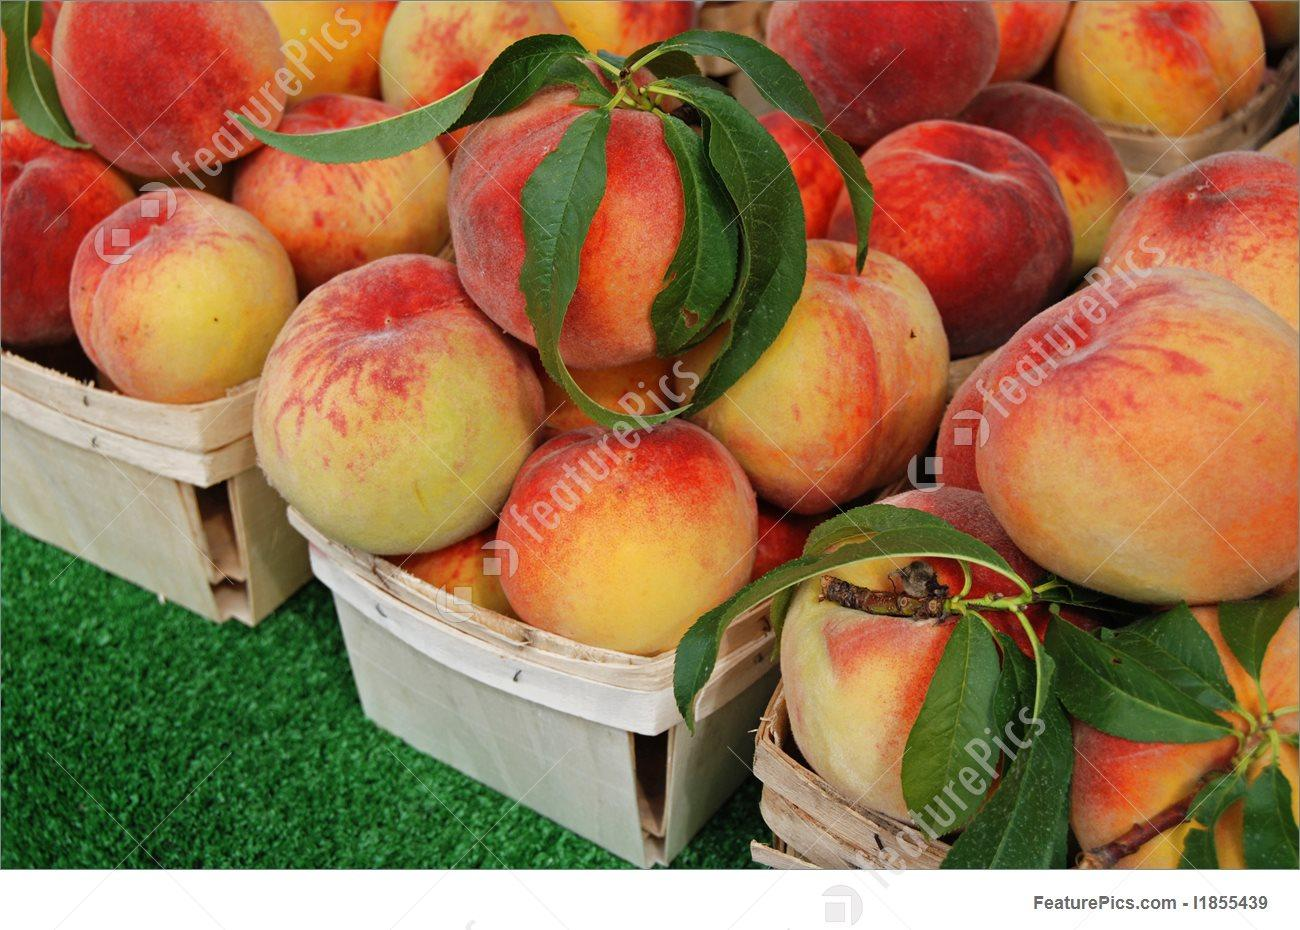Peach leaf: (662, 521, 1041, 740), (635, 16, 882, 271), (516, 92, 679, 445), (214, 28, 592, 176), (696, 73, 814, 429), (899, 607, 1003, 841), (1122, 603, 1251, 716)
